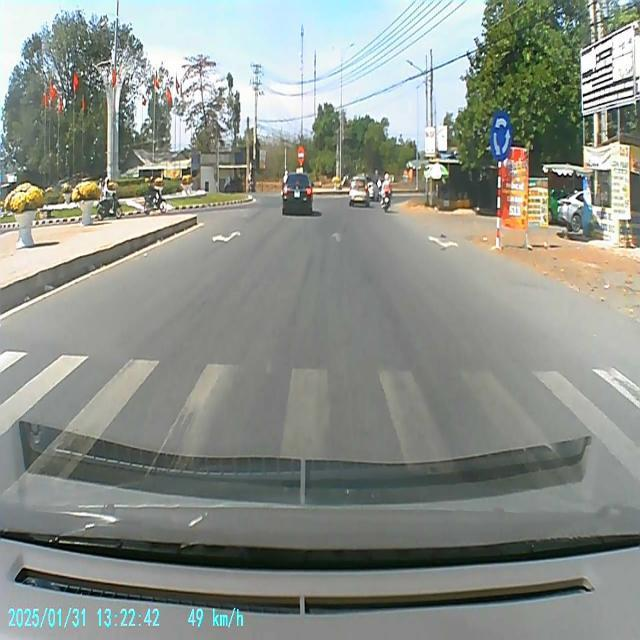102-cam-di-nguoc-chieu: (298, 146, 304, 164)
303-noi-giao-nhau-chay-theo-vong-xuyen: (491, 109, 513, 159)
